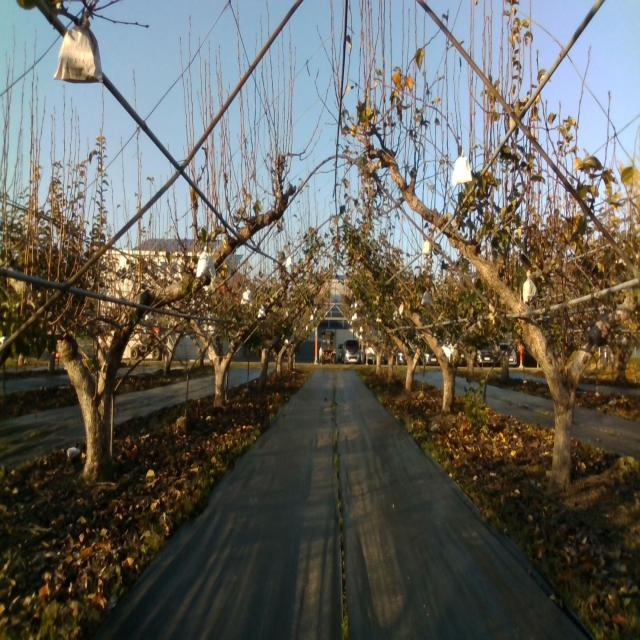pearbags: (53, 18, 104, 86), (452, 148, 472, 188), (195, 245, 216, 277), (522, 270, 538, 304), (240, 286, 252, 308)
